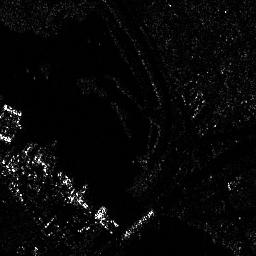ship: (121, 209, 156, 241)
